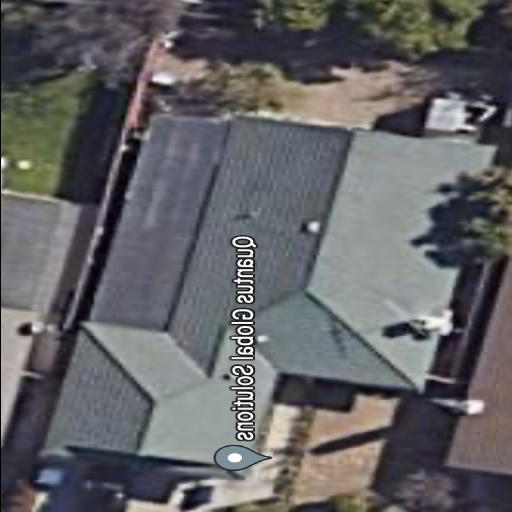Slope-Roof: (42, 115, 495, 473)
